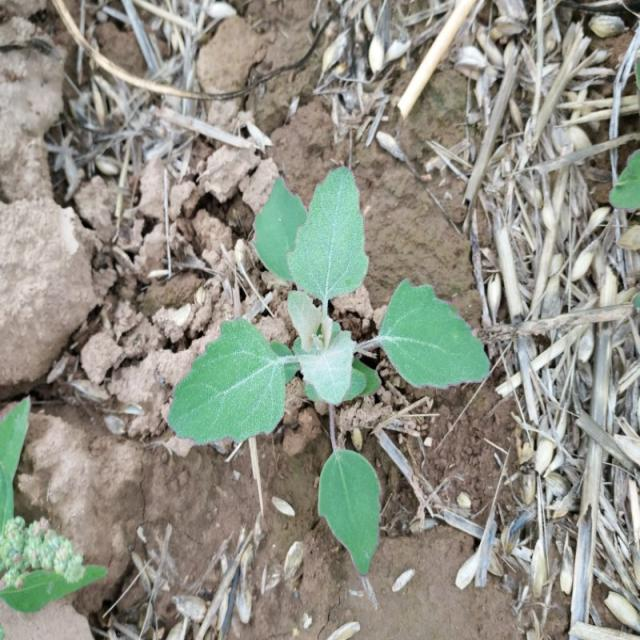goosefoots: (200, 176, 496, 565)
